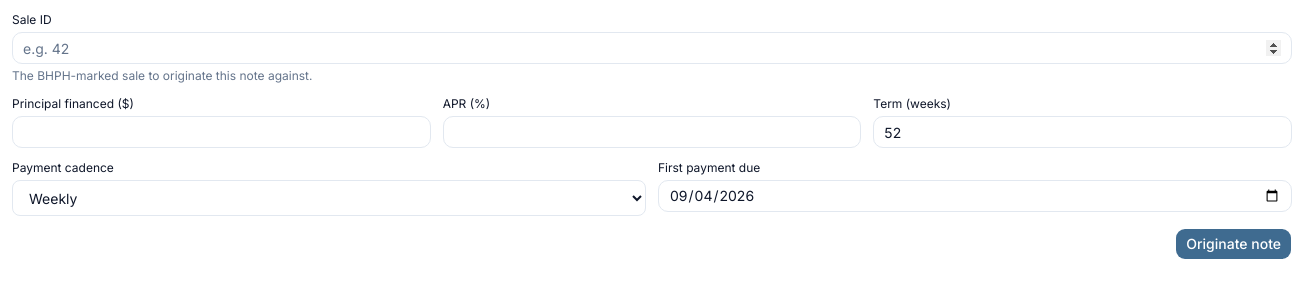
it: RecordBhphNoteForm › surfaces a backend 404 as a sale-not-found message
Type "99" into the number field with test id "record-bhph-note-sale-id" at [652, 48], box x1=12 y1=32 x2=1292 y2=64
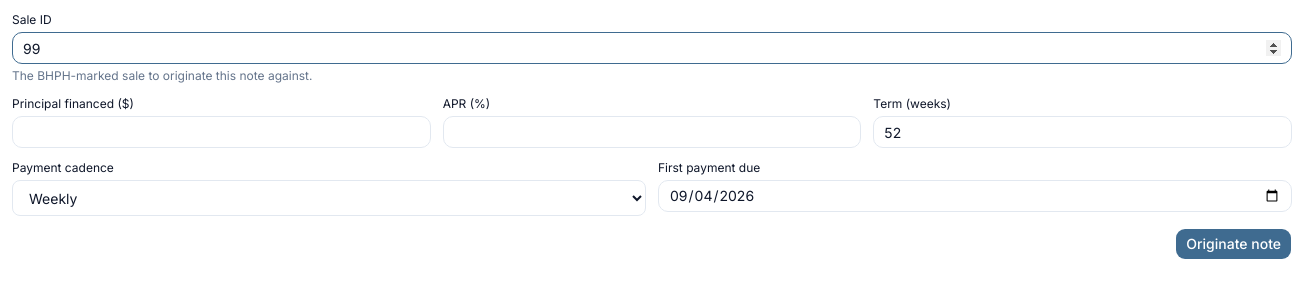
Type "5000" into the number field with test id "record-bhph-note-principal" at [221, 132], box x1=12 y1=116 x2=431 y2=148
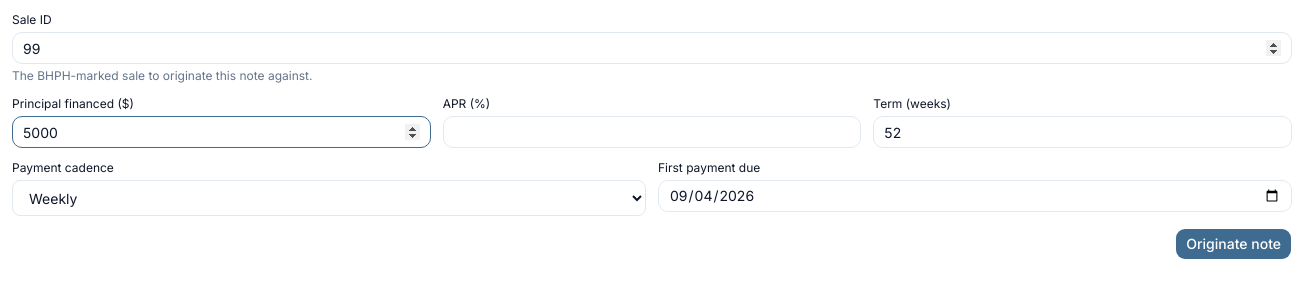
Type "18.5" into the number field with test id "record-bhph-note-apr" at [652, 132], box x1=443 y1=116 x2=861 y2=148
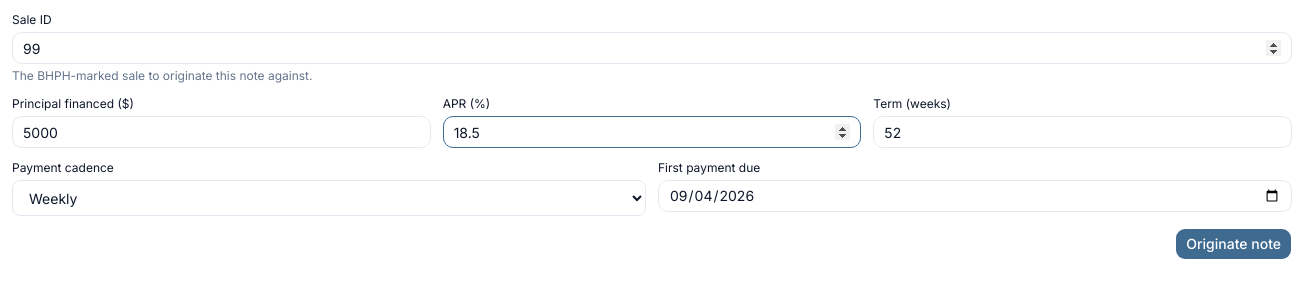
Click the button with test id "record-bhph-note-submit" at [1234, 244], box x1=1175 y1=228 x2=1292 y2=260
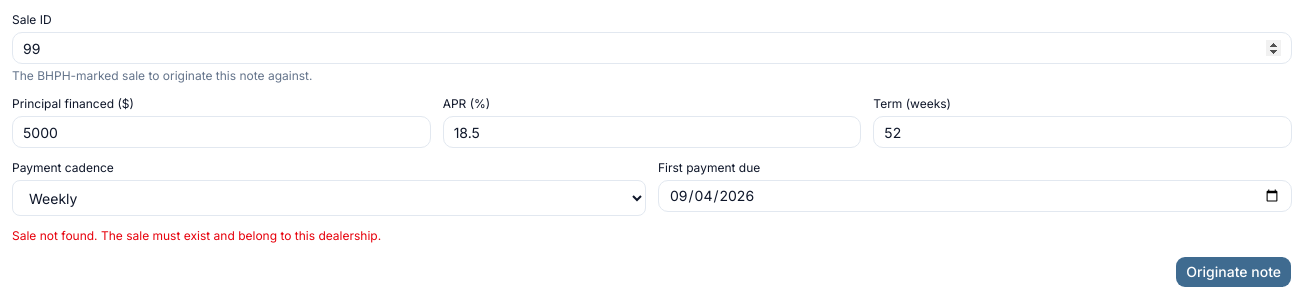
Result: the message with test id "record-bhph-note-error" shows "Sale not found" at x1=12 y1=228 x2=381 y2=243
